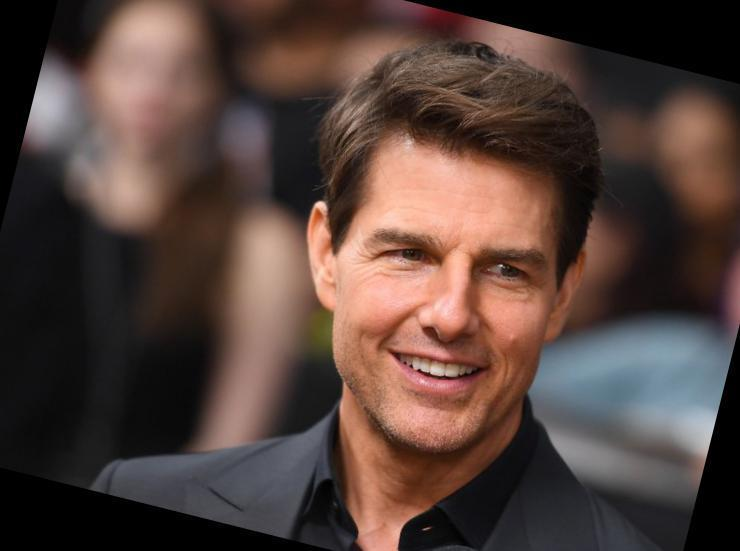Sober: (345, 155, 548, 442)
